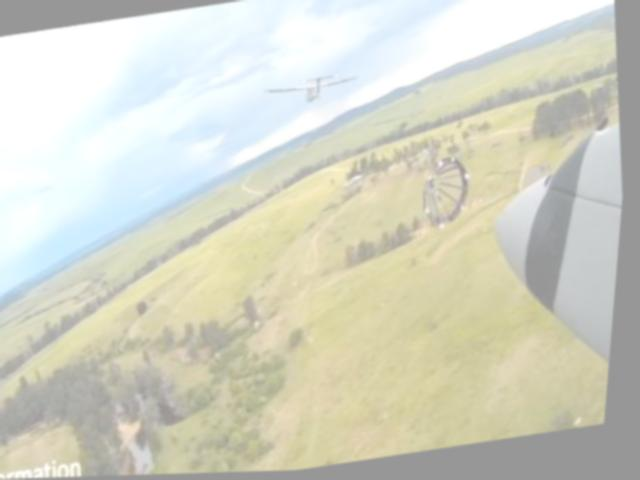uav: (263, 68, 361, 110)
